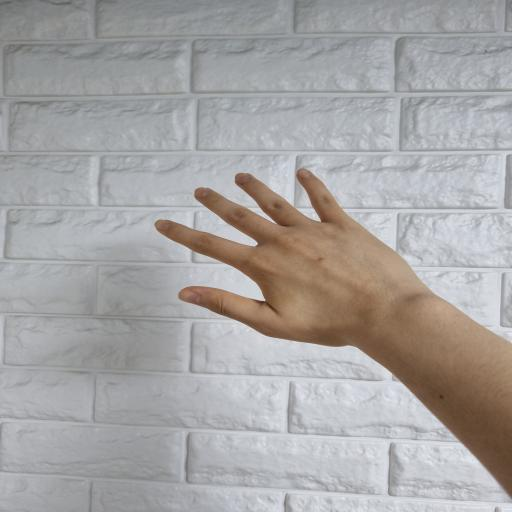Paper: (154, 168, 433, 357)
